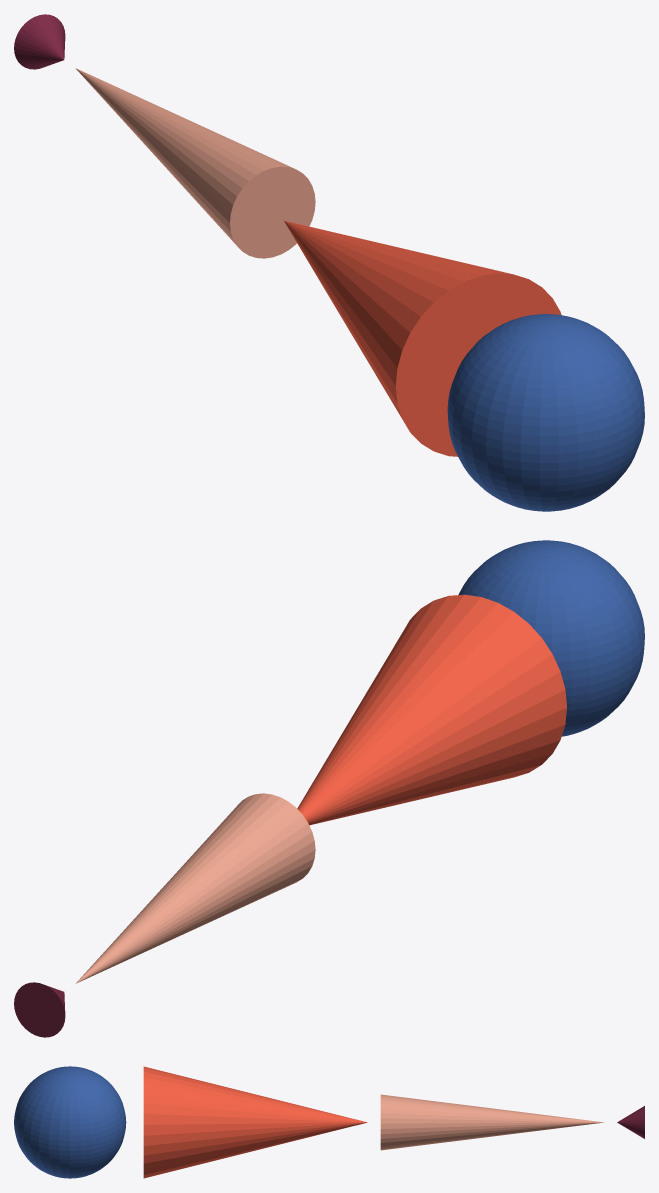
Rendered from hand.dae.
3 views of the same model, one above another, from view 1: azimuth 30°, elevation 25°; view 2: azimuth 150°, elevation 25°; view 3: azimuth 270°, elevation 25° (orthographic). The views are drawn at different scales.
Visible parts, largest first — view 1: Sphere, Cone1, Cone2, Cone3; view 2: Cone1, Sphere, Cone2, Cone3; view 3: Cone1, Sphere, Cone2, Cone3.
Boxes of the visible parts, left/top/right/bottom form: Sphere: left=447, top=314, right=644, bottom=511; Cone1: left=284, top=220, right=561, bottom=456; Cone2: left=75, top=68, right=315, bottom=258; Cone3: left=14, top=14, right=65, bottom=69; Cone1: left=297, top=594, right=566, bottom=825; Sphere: left=458, top=540, right=644, bottom=736; Cone2: left=75, top=793, right=315, bottom=983; Cone3: left=14, top=982, right=65, bottom=1037; Cone1: left=143, top=1066, right=367, bottom=1178; Sphere: left=14, top=1066, right=126, bottom=1178; Cone2: left=380, top=1094, right=604, bottom=1150; Cone3: left=617, top=1106, right=644, bottom=1138.
Size of the model in its own units: 2 by 11.24 by 2.
